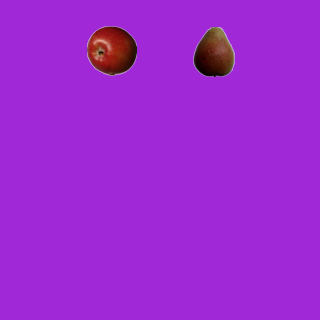Apple Braeburn: (86, 25, 136, 75)
Pear Forelle: (188, 26, 238, 76)
